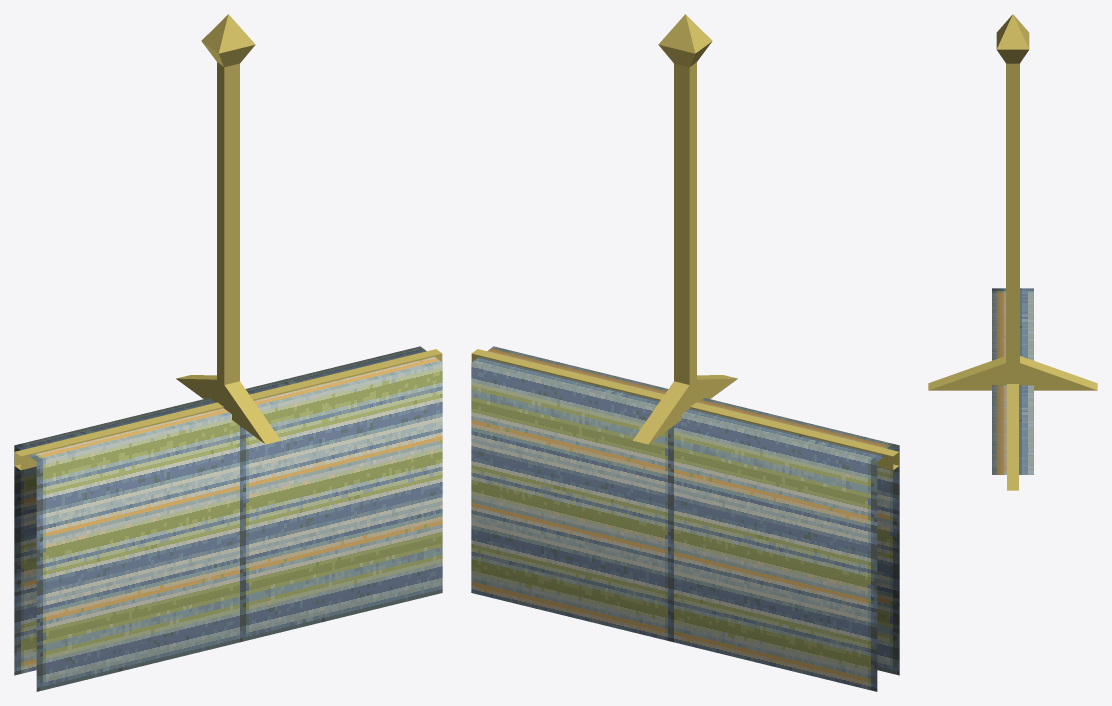
3 renders of one model, left to right at view 1: azimuth 30°, elevation 25°; view 2: azimuth 150°, elevation 25°; view 3: azimuth 270°, elevation 25°, orthographic. The views are drawn at different scales.
Visible parts, largest first — view 1: 4598floor_r; view 2: 4598floor_r; view 3: 4598floor_r.
Part boxes in pixels (box(x1,y1,x2,y2)): 4598floor_r: box(14, 14, 442, 691); 4598floor_r: box(471, 14, 899, 691); 4598floor_r: box(928, 14, 1097, 490).
Size of the model in its own units: 1.59 by 2.23 by 0.5869.
2 materials, 1 textured.
